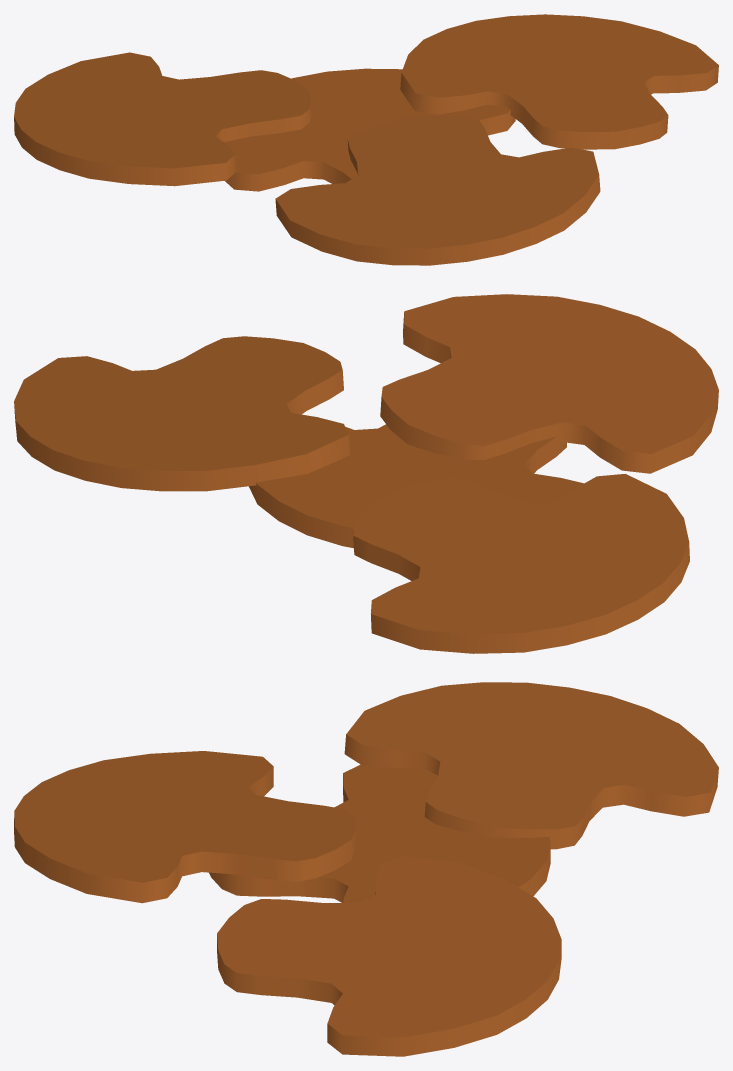
File: mushroom.gltf
3 views of the same model, one above another, from view 1: azimuth 30°, elevation 25°; view 2: azimuth 150°, elevation 25°; view 3: azimuth 270°, elevation 25° (orthographic). The views are drawn at different scales.
Parts seen in each view (by area): view 1: Circle.003, Circle.001, Circle.002, Circle; view 2: Circle.002, Circle.003, Circle.001, Circle; view 3: Circle.001, Circle.002, Circle.003, Circle.
Part boxes in pixels (box(x1,y1,x2,y2)): Circle.003: box(275, 115, 600, 265); Circle.001: box(400, 14, 718, 149); Circle.002: box(14, 52, 311, 186); Circle: box(224, 68, 515, 191); Circle.002: box(353, 474, 689, 653); Circle.003: box(380, 294, 718, 473); Circle.001: box(14, 336, 350, 491); Circle: box(249, 424, 583, 548); Circle.001: box(217, 856, 561, 1056); Circle.002: box(344, 682, 718, 849); Circle.003: box(14, 751, 356, 903); Circle: box(209, 764, 550, 902).
Bounding box in the file's own units: 1.29 × 0.0938 × 1.12.
